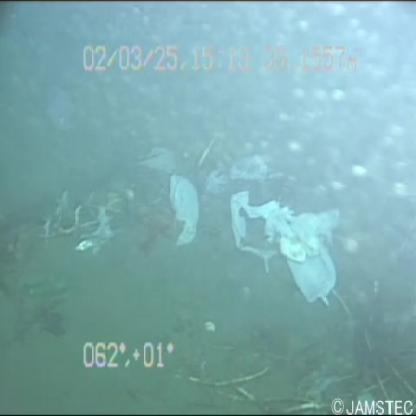Rác: (225, 183, 350, 313), (160, 155, 216, 260)
